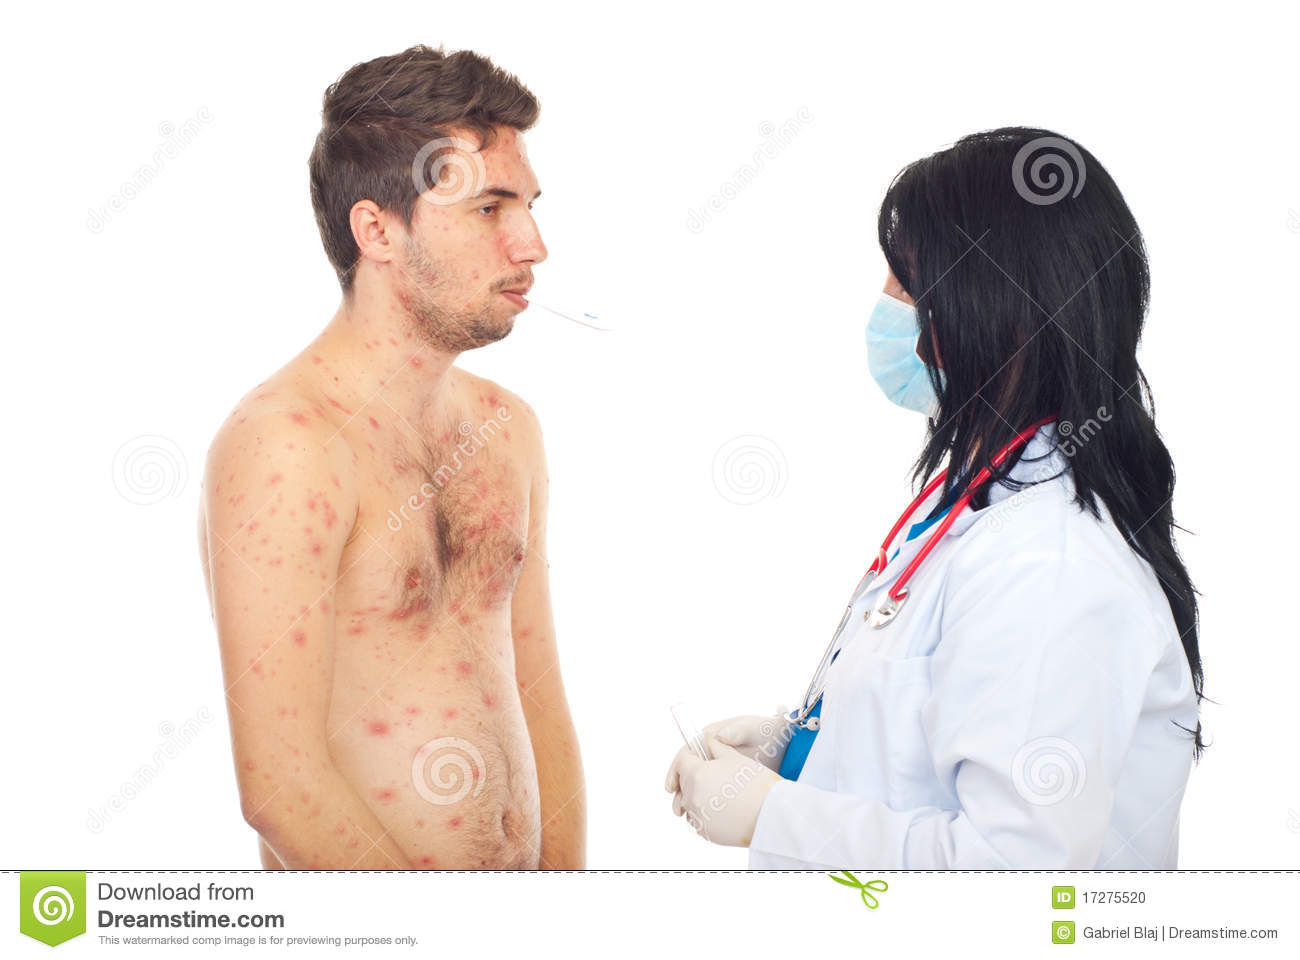mask: (848, 289, 951, 421)
